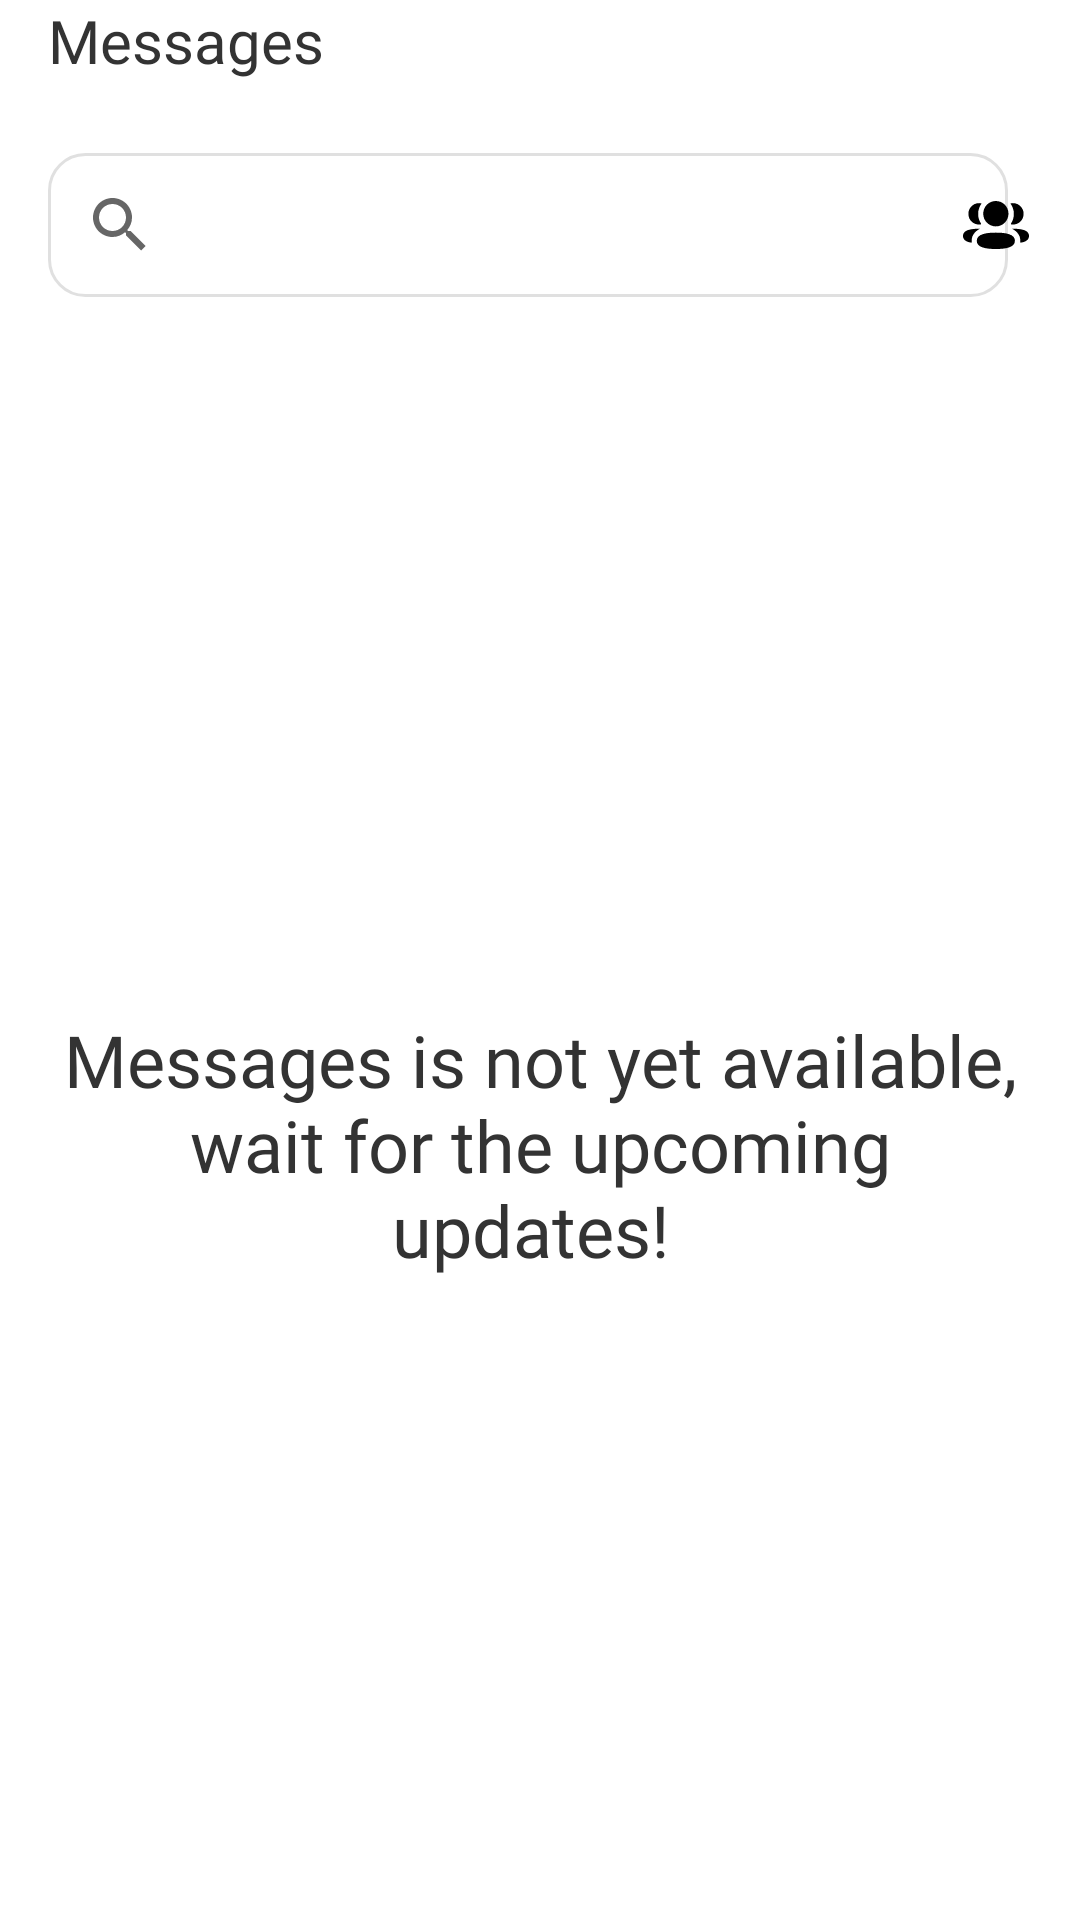

Locate icon controls on the screen. Image size 1080 x 1920, boxes as {"x1": x1, "y1": y1, "x2": x2, "y2": y2}.
people: {"x1": 963, "y1": 189, "x2": 1029, "y2": 261}
